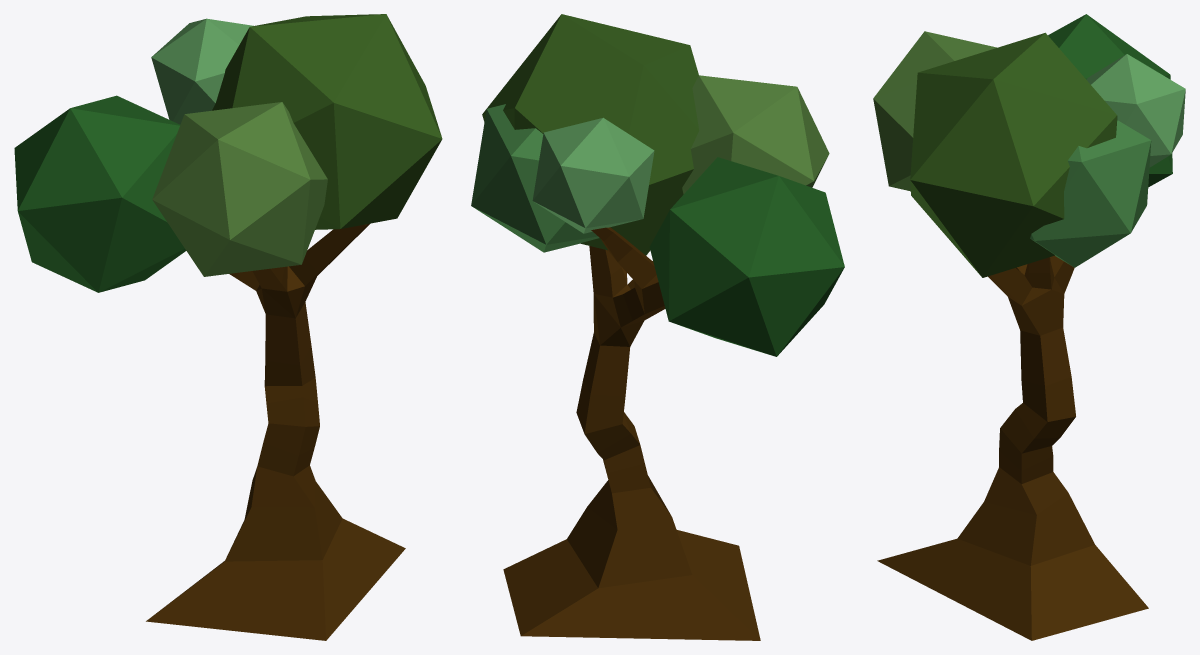
The model's file is Tree.fbx.
3 renders of one model, left to right at view 1: azimuth 30°, elevation 25°; view 2: azimuth 150°, elevation 25°; view 3: azimuth 270°, elevation 25°, orthographic. The views are drawn at different scales.
Parts seen in each view (by area): view 1: Tree01; view 2: Tree01; view 3: Tree01.
Part boxes in pixels (<box>): Tree01: <box>14,14,442,640</box>; Tree01: <box>471,14,844,640</box>; Tree01: <box>873,14,1185,640</box>.
Bounding box in the file's own units: 222 × 311 × 160.
1 material, 1 textured.
